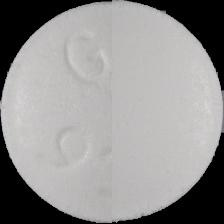21695-099: (0, 0, 224, 224)
